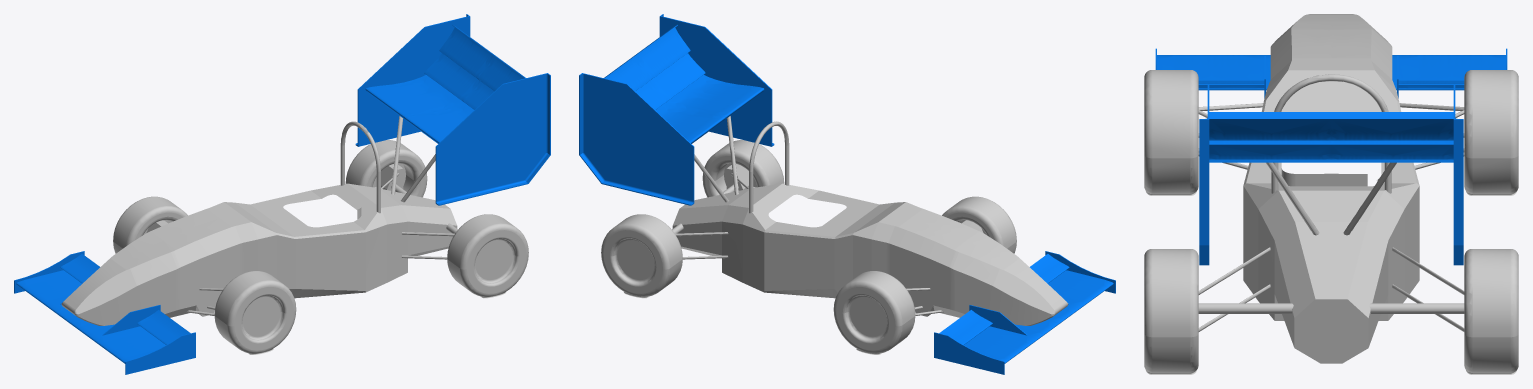
File: FSAE-Car''.glb
3 renders of one model, left to right at view 1: azimuth 30°, elevation 25°; view 2: azimuth 150°, elevation 25°; view 3: azimuth 270°, elevation 25°, orthographic. The views are drawn at different scales.
Visible parts, largest first — view 1: empty_9, empty_10, empty_2, empty_3, empty_5, empty_4, empty_6; view 2: empty_9, empty_10, empty_2, empty_6, empty_4, empty_5, empty_3; view 3: empty_9, empty_10, empty_4, empty_5, empty_3, empty_6, empty_2.
Part boxes in pixels (bbox=[...]): empty_9: bbox=[61, 116, 457, 325]; empty_10: bbox=[355, 14, 550, 205]; empty_2: bbox=[14, 251, 195, 374]; empty_3: bbox=[214, 271, 296, 354]; empty_5: bbox=[447, 214, 528, 298]; empty_4: bbox=[345, 140, 427, 197]; empty_6: bbox=[113, 196, 187, 253]; empty_9: bbox=[672, 116, 1068, 325]; empty_10: bbox=[579, 14, 774, 205]; empty_2: bbox=[934, 251, 1115, 374]; empty_6: bbox=[833, 271, 915, 354]; empty_4: bbox=[601, 214, 682, 298]; empty_5: bbox=[702, 140, 784, 197]; empty_3: bbox=[942, 196, 1016, 253]; empty_9: bbox=[1198, 14, 1464, 363]; empty_10: bbox=[1199, 85, 1463, 265]; empty_4: bbox=[1464, 249, 1518, 374]; empty_5: bbox=[1144, 249, 1198, 374]; empty_3: bbox=[1144, 70, 1198, 195]; empty_6: bbox=[1464, 70, 1518, 195]; empty_2: bbox=[1155, 48, 1507, 98].
Bounding box in the file's own units: 2947 × 1222 × 1376.
